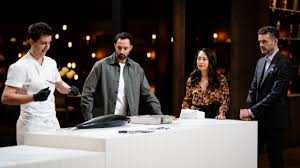Bad: (1, 23, 162, 117), (82, 32, 229, 120), (180, 26, 290, 121)
